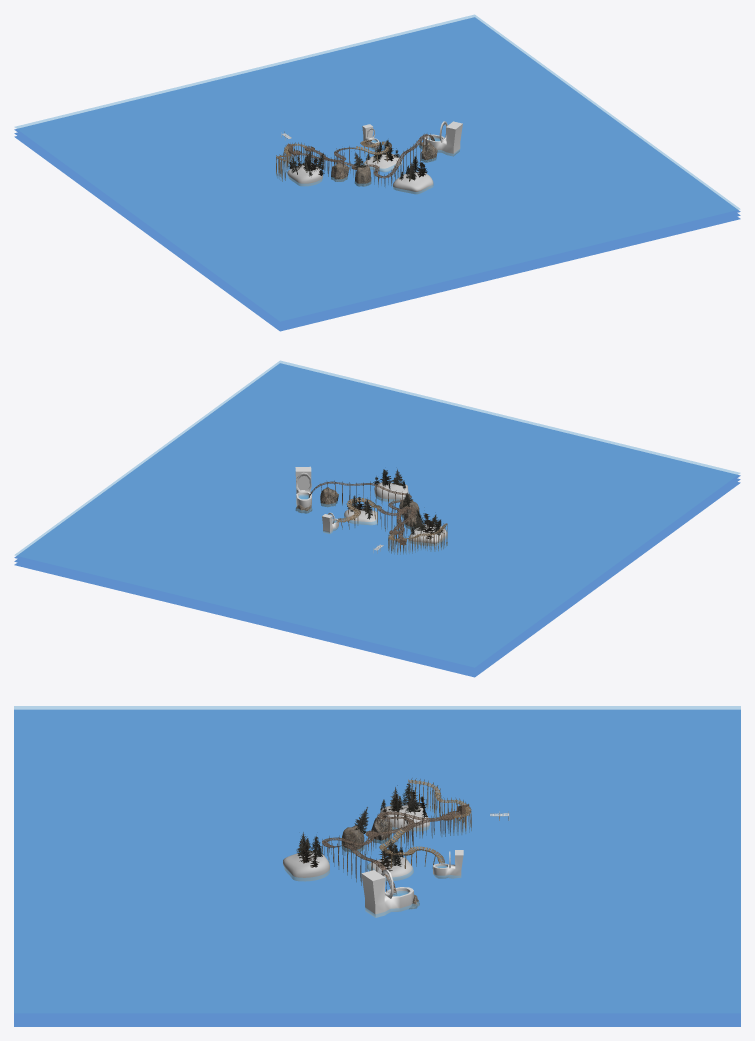
Rendered from fase01.fbx.
The picture shows the model from 3 angles, top to bottom: view 1: azimuth 30°, elevation 25°; view 2: azimuth 150°, elevation 25°; view 3: azimuth 270°, elevation 25°; orthographic projection. The views are drawn at different scales.
Parts seen in each view (by area): view 1: Plane.003, Plane.004, Plane.005, Plane.006, Cube.002, Cylinder.009, Sphere, Sphere.002; view 2: Plane.003, Plane.004, Plane.005, Plane.006, Cylinder.002, Cube.002, Cylinder.009; view 3: Plane.003, Plane.004, Plane.005, Plane.006, Cube.002, Cylinder.009, Cylinder.002, Sphere, Cylinder.001, Sphere.002, Cylinder.005, Cube.001 (+2 smaller).
Boxes of the visible parts, x1,y1,x2,y2 form: Plane.003: (14,14,740,321); Plane.004: (14,17,740,324); Plane.005: (14,132,740,327); Plane.006: (14,136,740,331); Cube.002: (424,121,462,156); Cylinder.009: (362,133,434,187); Sphere: (393,171,433,194); Sphere.002: (287,164,322,186); Plane.003: (14,360,740,667); Plane.004: (14,363,740,670); Plane.005: (14,478,740,673); Plane.006: (14,482,740,677); Cylinder.002: (388,523,447,554); Cube.002: (295,466,311,507); Cylinder.009: (308,480,411,517); Plane.003: (14,706,740,1013); Plane.004: (14,709,740,1016); Plane.005: (14,1017,740,1021); Plane.006: (14,1022,740,1026); Cube.002: (361,869,413,917); Cylinder.009: (322,834,396,895); Cylinder.002: (408,778,471,835); Sphere: (283,850,329,881); Cylinder.001: (377,809,442,851); Sphere.002: (380,805,429,831); Cylinder.005: (379,829,444,868); Cube.001: (433,850,463,878).
Bounding box in the file's own units: 35387 × 4135 × 35387.
